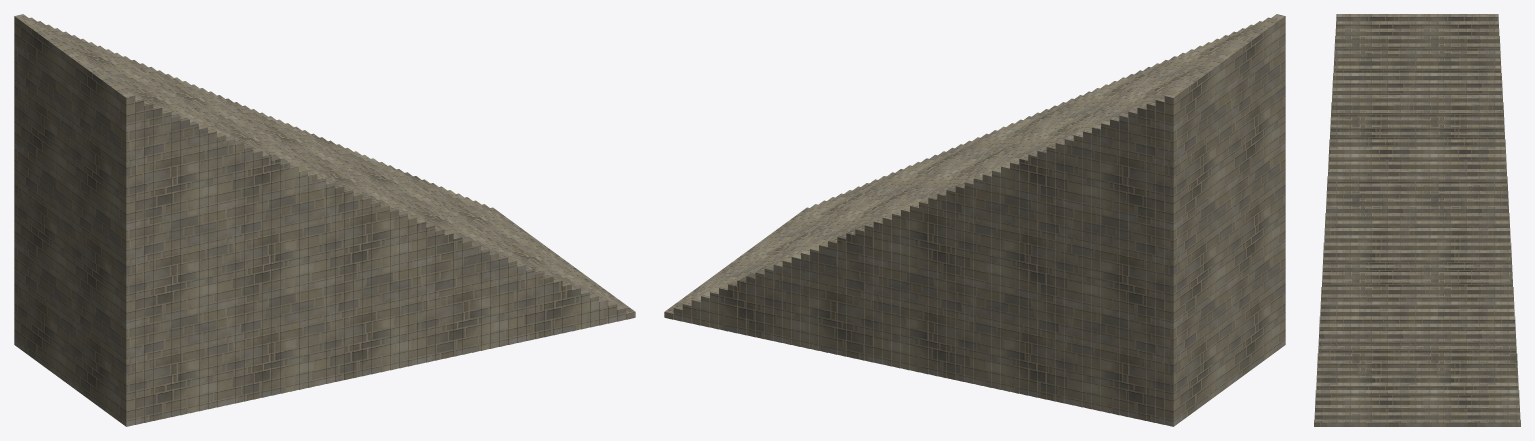
The model's file is fort-rubble.fort-v1.lod1.glb.
3 renders of one model, left to right at view 1: azimuth 30°, elevation 25°; view 2: azimuth 150°, elevation 25°; view 3: azimuth 270°, elevation 25°, orthographic. The views are drawn at different scales.
Visible parts, largest first — view 1: fort-rubble; view 2: fort-rubble; view 3: fort-rubble.
Part boxes in pixels (<box>): fort-rubble: <box>14,14,635,426</box>; fort-rubble: <box>664,14,1285,426</box>; fort-rubble: <box>1314,14,1520,426</box>.
Bounding box in the file's own units: 22 × 14 × 11.
Materials: 1 (1 with a texture image).
